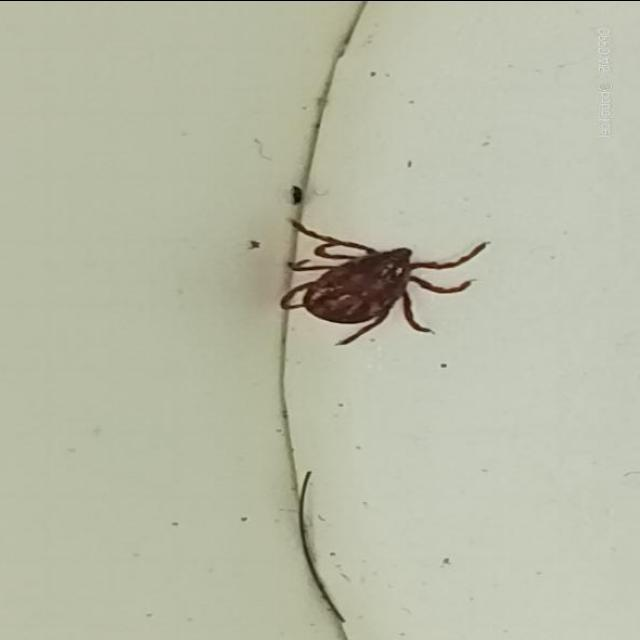Rhipicephalus Sanguineus-M: (281, 215, 493, 344)
